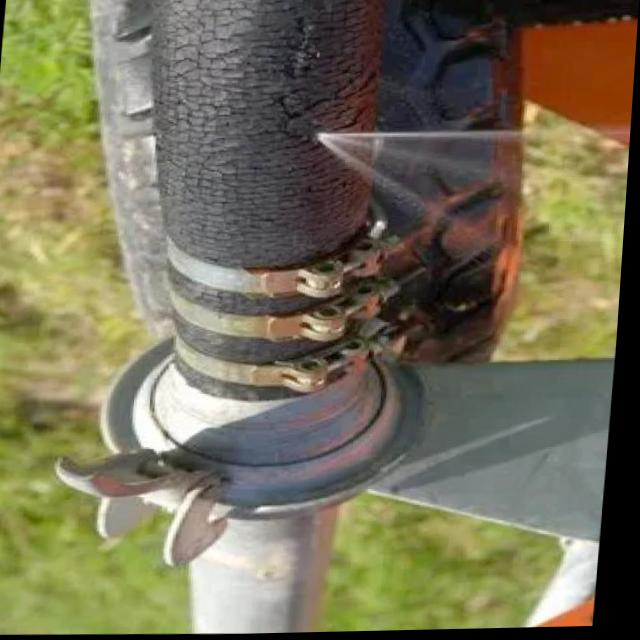leak: (306, 108, 632, 317)
